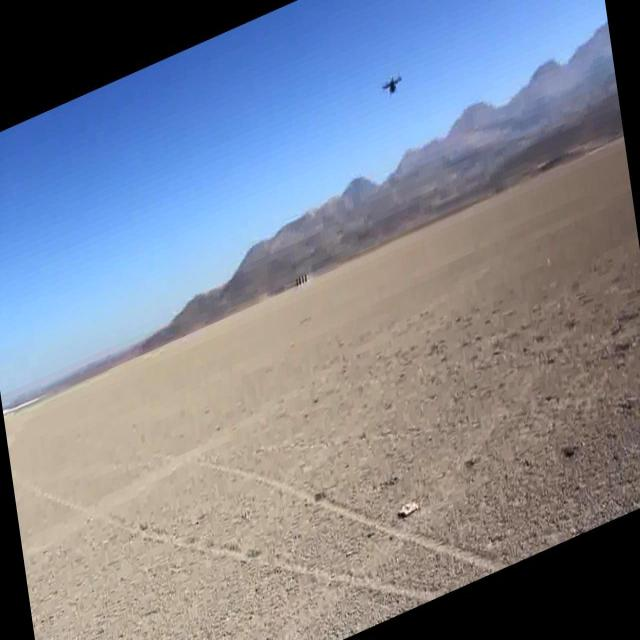drone: (376, 70, 405, 109)
